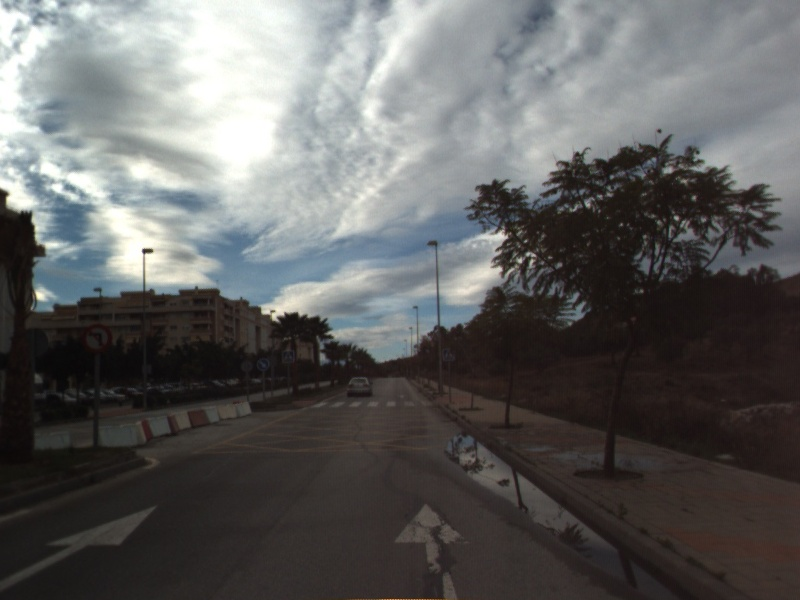STRAIGHT: (1, 503, 160, 592), (392, 501, 474, 600)
